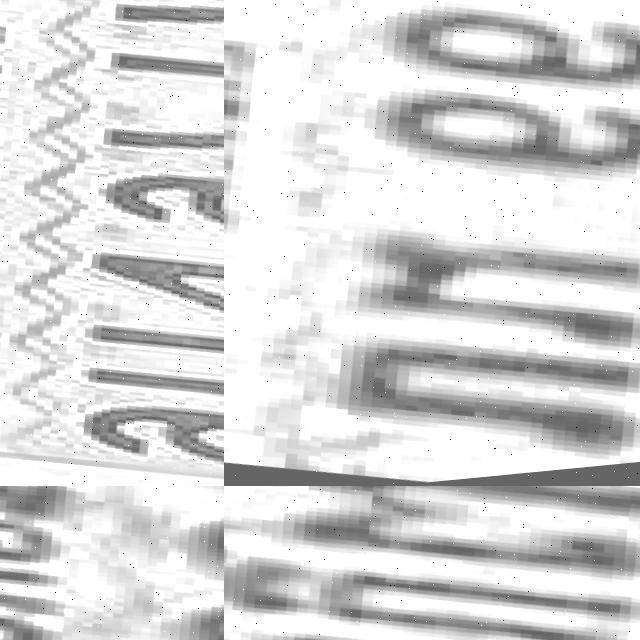license-plate: (224, 0, 640, 486), (0, 0, 224, 486), (224, 486, 640, 640), (0, 486, 224, 640)
